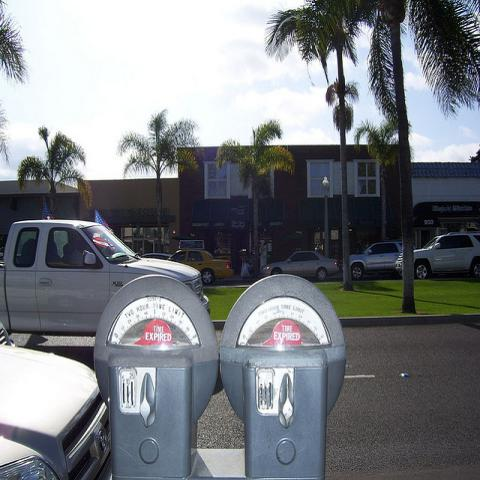car: (0, 325, 113, 479), (398, 233, 480, 285), (259, 250, 341, 282), (167, 249, 236, 285)
truck: (1, 220, 214, 340), (350, 241, 404, 278)
